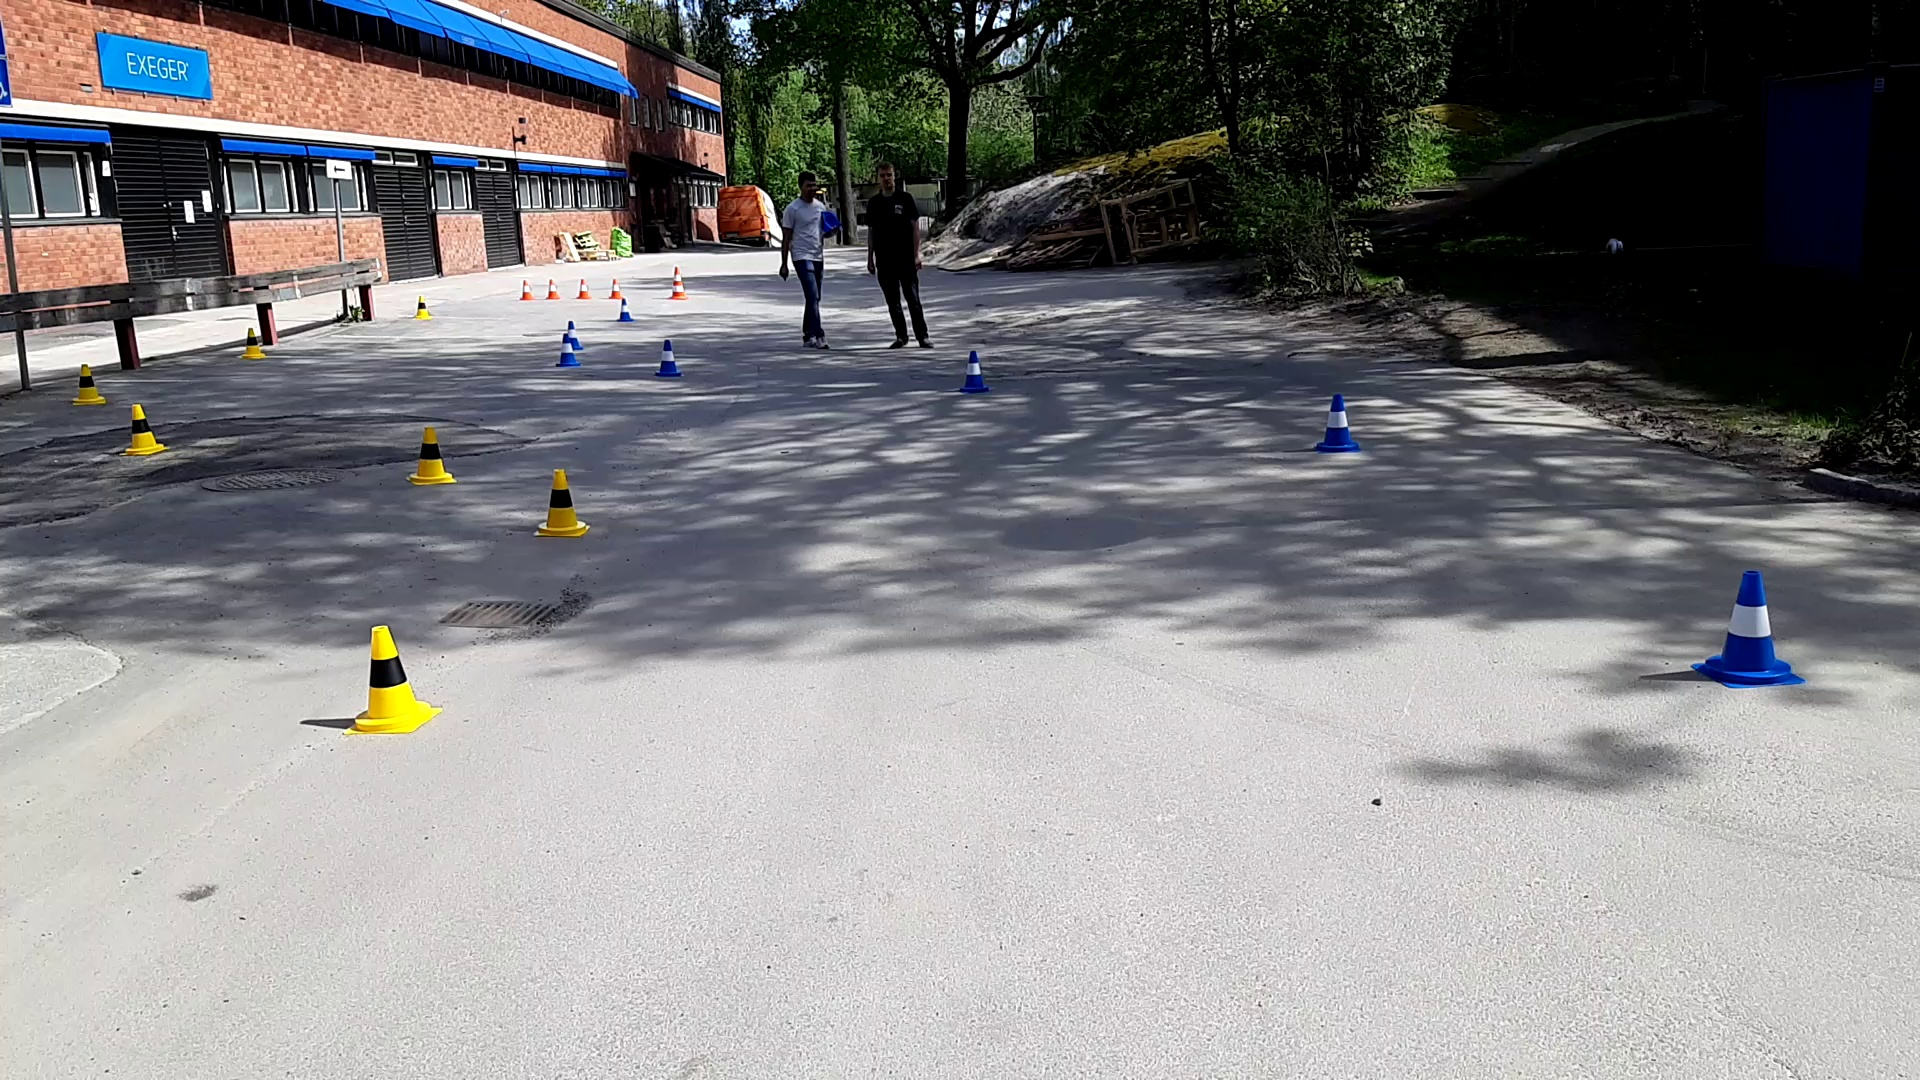Cone: (1695, 568, 1803, 691), (347, 620, 439, 742), (531, 468, 591, 543), (404, 426, 464, 491), (1312, 390, 1364, 458), (124, 396, 170, 462), (69, 365, 105, 413), (653, 334, 688, 382), (957, 347, 989, 400)
